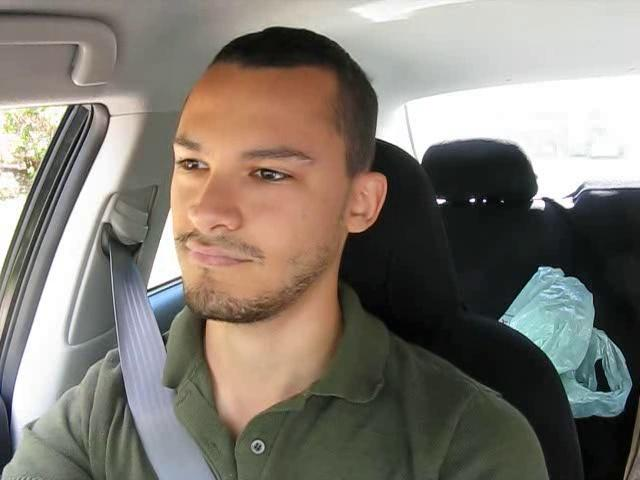no_yawn: (170, 234, 268, 278)
open_eyeL: (168, 148, 220, 184)
open_eyeR: (238, 157, 306, 195)
